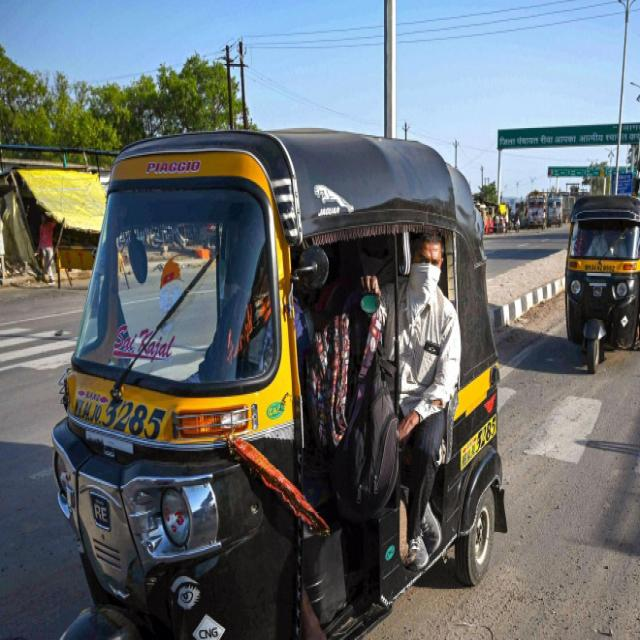autorikshaw: (49, 122, 507, 636), (562, 189, 640, 371)
